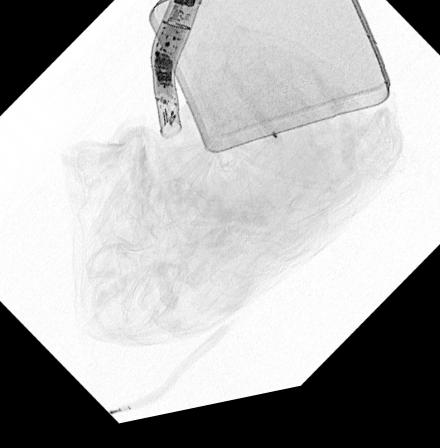Baton: (148, 0, 204, 144)
